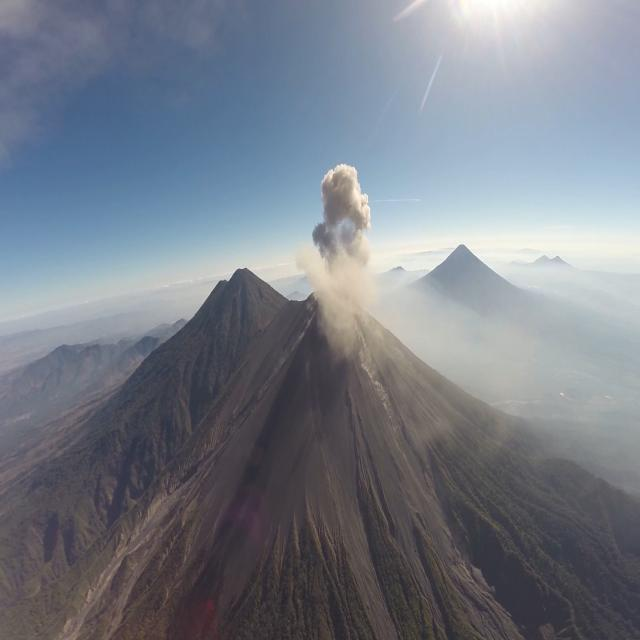Plume: (306, 156, 376, 342)
